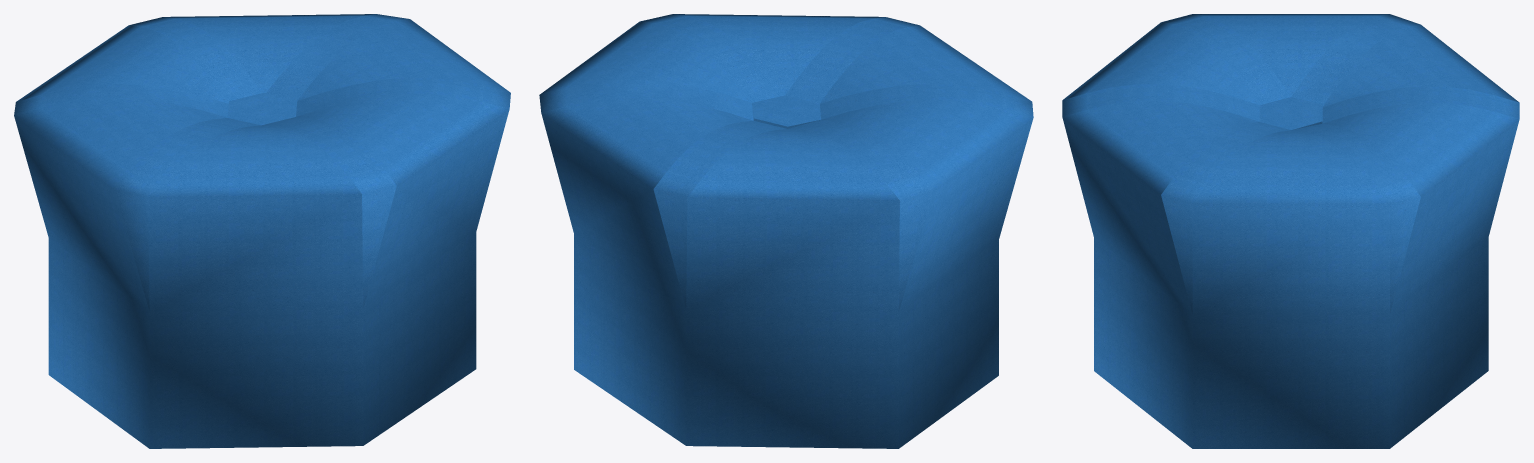
File: hat 6.dae
3 renders of one model, left to right at view 1: azimuth 30°, elevation 25°; view 2: azimuth 150°, elevation 25°; view 3: azimuth 270°, elevation 25°, orthographic. The views are drawn at different scales.
Visible parts, largest first — view 1: instance_0; view 2: instance_0; view 3: instance_0.
Part boxes in pixels (box(x1,y1,x2,y2)): instance_0: box(14, 14, 510, 448); instance_0: box(539, 14, 1033, 448); instance_0: box(1062, 14, 1519, 448).
Size of the model in its own units: 0.388 by 0.3963 by 0.2707.
Materials: 1 (1 with a texture image).
